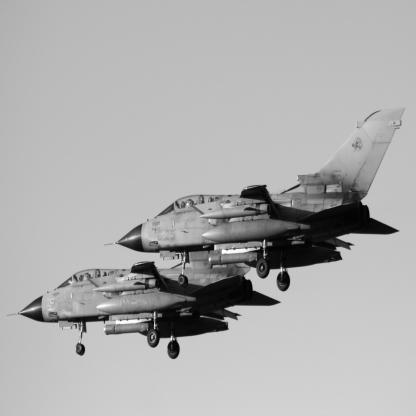Tornado: (104, 108, 406, 293), (7, 190, 287, 360)
